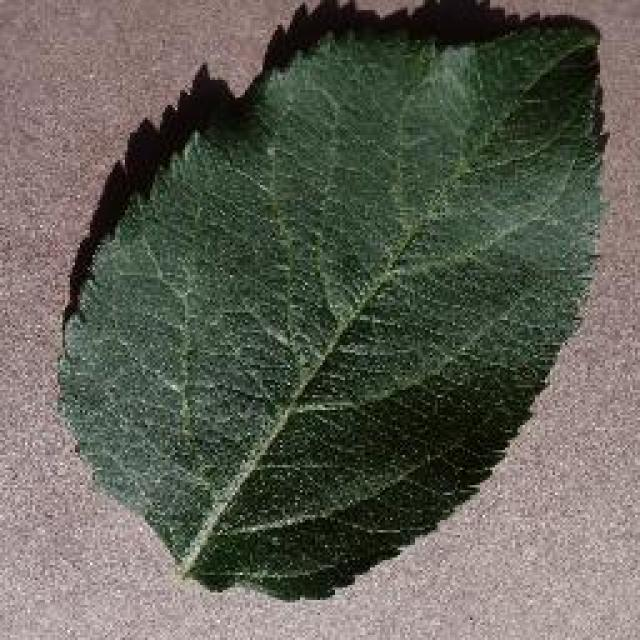apple healthy: (52, 0, 609, 602)
